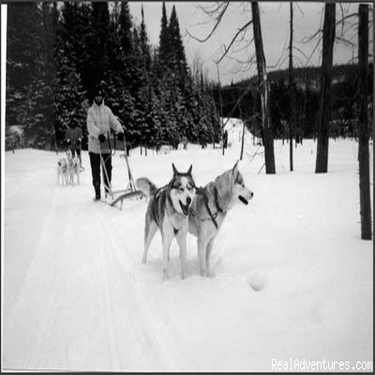dog: (166, 159, 257, 277), (133, 155, 197, 287), (65, 152, 84, 187), (56, 154, 69, 186)
